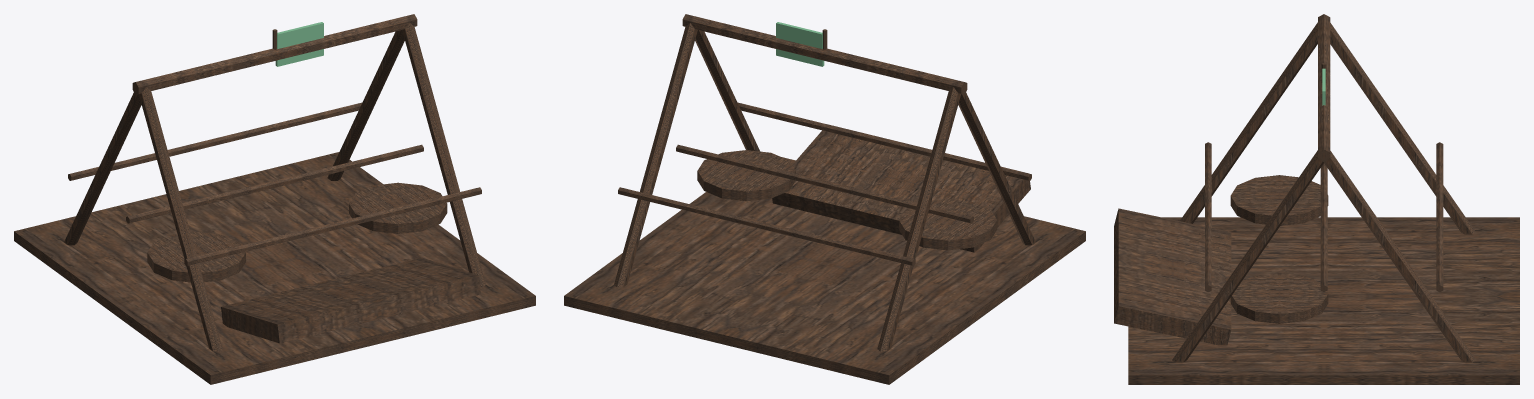
Rendered from edificio-b_016-e0-jp7X6C2B.glb.
3 views of the same model, side by side, from view 1: azimuth 30°, elevation 25°; view 2: azimuth 150°, elevation 25°; view 3: azimuth 270°, elevation 25° (orthographic).
Parts seen in each view (by area): view 1: edificio-b_016-e0_detalles, edificio-b_016-e0_envolvente, edificio-b_016-e0_team_color; view 2: edificio-b_016-e0_detalles, edificio-b_016-e0_envolvente, edificio-b_016-e0_team_color; view 3: edificio-b_016-e0_detalles, edificio-b_016-e0_envolvente.
Boxes of the visible parts, box(x1,y1,x2,y2) form: edificio-b_016-e0_detalles: box(14, 29, 535, 384); edificio-b_016-e0_envolvente: box(64, 14, 485, 351); edificio-b_016-e0_team_color: box(275, 22, 323, 66); edificio-b_016-e0_detalles: box(564, 29, 1085, 384); edificio-b_016-e0_envolvente: box(614, 14, 1035, 351); edificio-b_016-e0_team_color: box(776, 22, 824, 66); edificio-b_016-e0_detalles: box(1128, 63, 1519, 384); edificio-b_016-e0_envolvente: box(1114, 14, 1475, 362).
Bounding box in the file's own units: 42 × 30.38 × 45.58.
3 materials, 2 textured.
